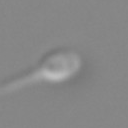normal: (1, 69, 41, 97)
